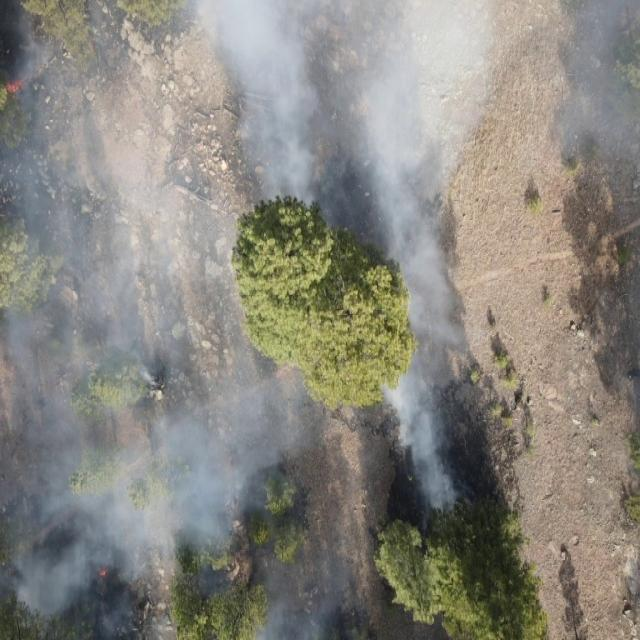fire: (5, 58, 49, 98), (96, 566, 110, 582)
smoke: (0, 0, 490, 515), (0, 514, 376, 638), (551, 0, 640, 414)
